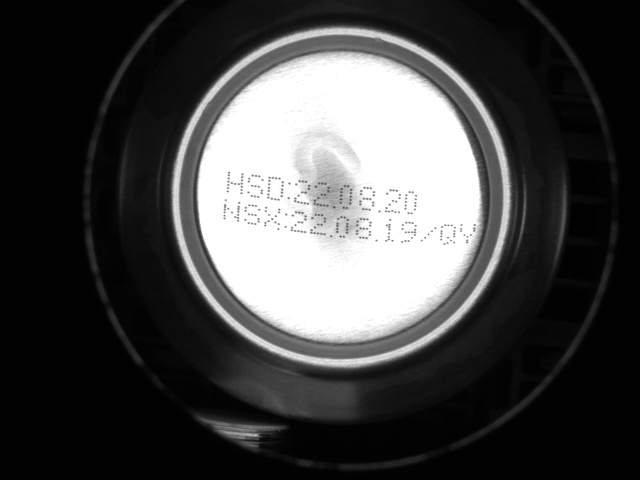/: (421, 223, 440, 247)
0: (330, 213, 355, 239), (405, 187, 424, 215), (339, 181, 358, 208)
1: (382, 218, 399, 245)
2: (315, 179, 339, 210), (380, 186, 404, 216), (291, 175, 314, 204), (288, 207, 311, 232), (310, 210, 328, 235)
8: (354, 216, 378, 241), (360, 184, 379, 211)
9: (402, 220, 421, 247)
D: (265, 175, 287, 201)
H: (225, 168, 246, 192)
N: (219, 198, 244, 224)
Q: (440, 224, 460, 246)
S: (244, 200, 264, 225), (246, 172, 265, 196)
X: (264, 204, 283, 229)
Y: (461, 221, 482, 246)
